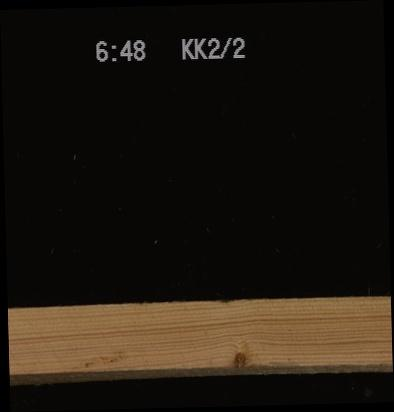edge_knot: (232, 349, 246, 370)
